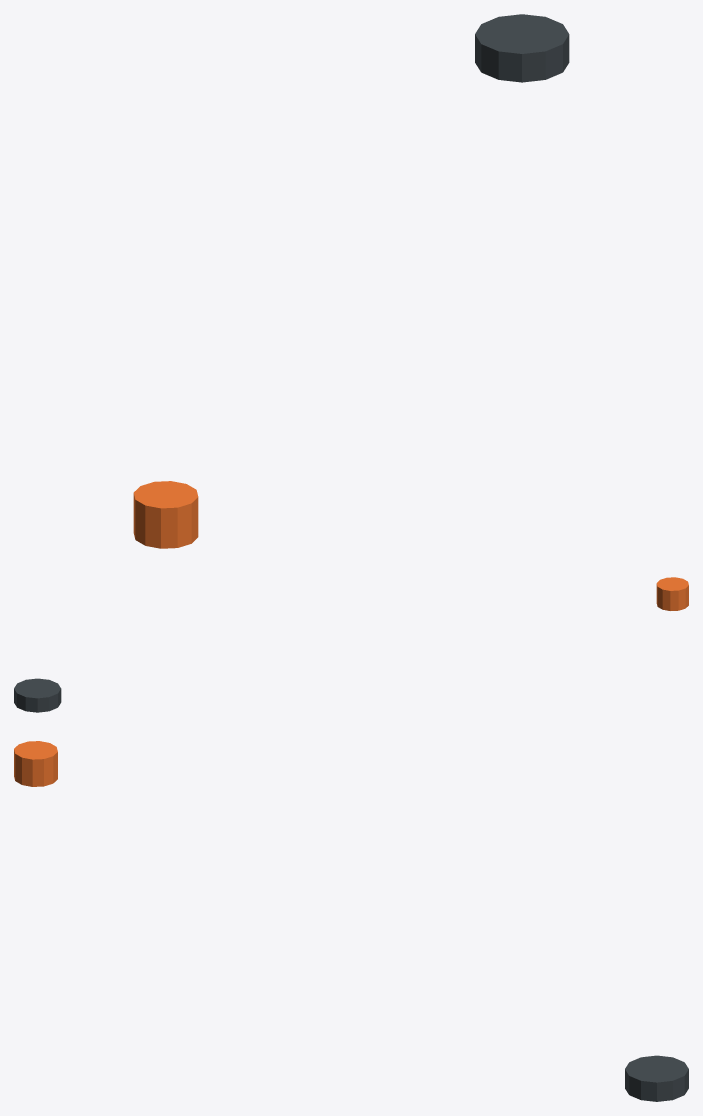
File: LP_EmergencyBeacon.fbx
The picture shows the model from 3 angles, top to bottom: view 1: azimuth 30°, elevation 25°; view 2: azimuth 150°, elevation 25°; view 3: azimuth 270°, elevation 25°; orthographic projection. The views are drawn at different scales.
Visible parts, largest first — view 1: EmergencyBeacon_Base, EmergencyBeacon_Light; view 2: EmergencyBeacon_Base, EmergencyBeacon_Light; view 3: EmergencyBeacon_Base, EmergencyBeacon_Light.
Part boxes in pixels (left/top/right/bottom): EmergencyBeacon_Base: left=475, top=14, right=569, bottom=82; EmergencyBeacon_Light: left=133, top=481, right=198, bottom=548; EmergencyBeacon_Base: left=14, top=678, right=61, bottom=712; EmergencyBeacon_Light: left=656, top=577, right=688, bottom=610; EmergencyBeacon_Base: left=625, top=1055, right=688, bottom=1101; EmergencyBeacon_Light: left=14, top=741, right=57, bottom=786.
Bounding box in the file's own units: 777 × 85 × 758.
